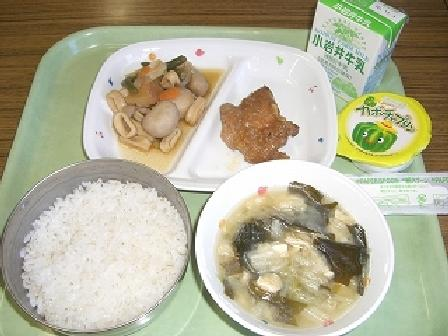Cup desserts: (328, 86, 438, 172)
Meat: (211, 83, 299, 171)
Milk: (300, 0, 406, 95)
Rice: (3, 156, 190, 335)
Soups: (196, 173, 393, 329)
vegetable based cooked food: (105, 44, 209, 152)
